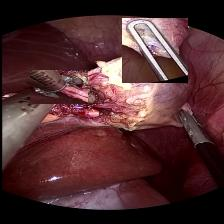Clipper: (29, 70, 87, 104)
Grasper: (121, 18, 187, 83), (174, 106, 210, 144)
